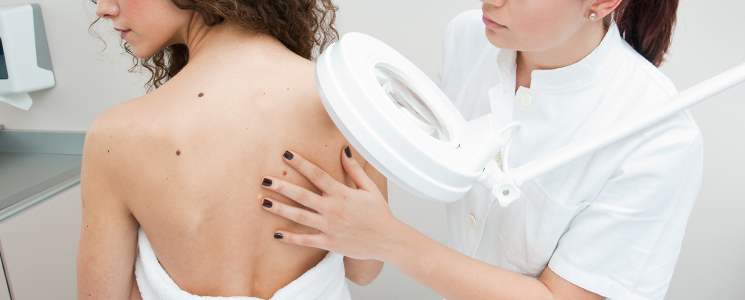mole: (193, 87, 208, 101), (173, 147, 186, 159), (278, 169, 292, 180)
